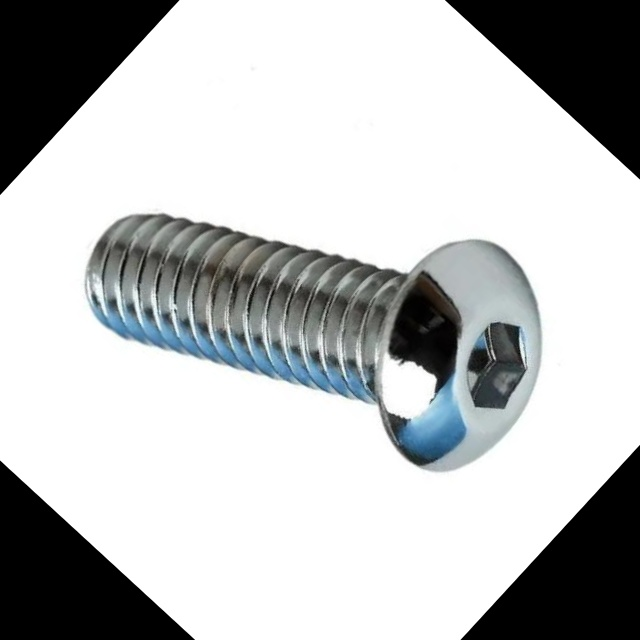allen: (317, 216, 597, 499)
